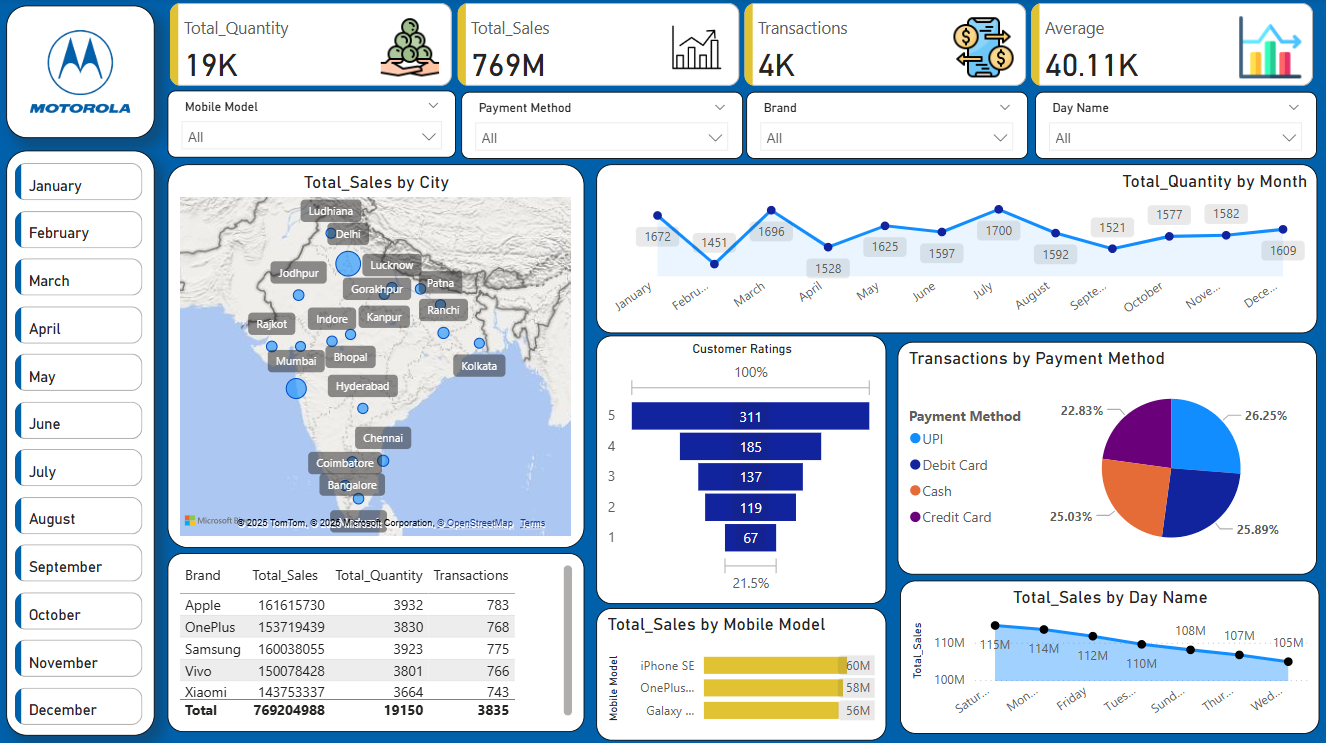

The dashboard page shown, as its layout file describes it:
{"tool":"powerbi","page":{"name":"Page 1","canvas":[1280,720],"ordinal":0},"visuals":[{"type":"shape","box":[6,7.2,143.6,127.9],"z":0},{"type":"image","box":[23.8,15,106.2,112.5],"z":1000},{"type":"shape","box":[6,147.2,143.6,564.6],"z":2000},{"type":"advancedSlicerVisual","fields":{"Values":["Sheet1.Date.Variation.Date Hierarchy.Month"]},"box":[9.4,153.9,133.9,557.4],"z":3000},{"type":"cardVisual","fields":{"Data":["Sales Data.Total_Quantity","Sales Data.Total_Sales","Sales Data.Transactions","Sales Data.Average"]},"box":[159.2,2.7,1117,91.9],"z":4000},{"type":"map","fields":{"Category":["Sales Data.City"],"Size":["Sales Data.Total_Sales"]},"box":[161.9,160.5,402.1,370.5],"z":5000},{"type":"lineChart","fields":{"Category":["Sales Data.Date.Variation.Date Hierarchy.Month","Sales Data.Date.Variation.Date Hierarchy.Day"],"Y":["Sales Data.Total_Quantity"]},"box":[575,160.5,695.7,163.3],"z":6000},{"type":"clusteredBarChart","fields":{"Category":["Sales Data.Mobile Model"],"Y":["Sales Data.Total_Sales"]},"box":[575,588.7,279.9,127.6],"z":7000},{"type":"pieChart","fields":{"Y":["Sales Data.Transactions"],"Category":["Sales Data.Payment Method"]},"box":[865.9,332.1,404.8,225],"z":8000},{"type":"funnel","title":"Customer Ratings","fields":{"Category":["Sales Data.Customer Ratings"],"Y":["CountNonNull(Sales Data.Customer Ratings)"]},"box":[575,325.2,279.9,259.3],"z":9000},{"type":"areaChart","fields":{"Category":["Sales Data.Day Name"],"Y":["Sales Data.Total_Sales"]},"box":[868.6,562.6,404.8,148.2],"z":10000},{"type":"tableEx","fields":{"Values":["Sales Data.Brand","Sales Data.Total_Sales","Sales Data.Total_Quantity","Sales Data.Transactions"]},"box":[161.9,535.2,402.1,172.9],"z":11000},{"type":"slicer","fields":{"Values":["Sales Data.Mobile Model"]},"box":[161.9,89.2,278.6,64.5],"z":12000},{"type":"slicer","fields":{"Values":["Sales Data.Payment Method"]},"box":[444.6,90.6,271.7,64.5],"z":13000},{"type":"slicer","fields":{"Values":["Sales Data.Brand"]},"box":[720.4,90.6,271.7,64.5],"z":14000},{"type":"slicer","fields":{"Values":["Sales Data.Day Name"]},"box":[999,90.6,271.7,64.5],"z":15000}]}

Visuals, with their boxes in screenshot pixels (x1, y1, x2, y2), scaled from the page's 1280x720 canvas onto the 1326x743 screenshot:
shape: rect(6, 7, 155, 139)
image: rect(25, 15, 135, 132)
shape: rect(6, 152, 155, 735)
advancedSlicerVisual - Sheet1.Date.Variation.Date Hierarchy.Month: rect(10, 159, 148, 734)
cardVisual - Sales Data.Total_Quantity x Sales Data.Total_Sales: rect(165, 3, 1322, 98)
map - Sales Data.City x Sales Data.Total_Sales: rect(168, 166, 584, 548)
lineChart - Sales Data.Date.Variation.Date Hierarchy.Month x Sales Data.Date.Variation.Date Hierarchy.Day: rect(596, 166, 1316, 334)
clusteredBarChart - Sales Data.Mobile Model x Sales Data.Total_Sales: rect(596, 608, 886, 739)
pieChart - Sales Data.Transactions x Sales Data.Payment Method: rect(897, 343, 1316, 575)
"Customer Ratings" funnel: rect(596, 336, 886, 603)
areaChart - Sales Data.Day Name x Sales Data.Total_Sales: rect(900, 581, 1319, 734)
tableEx - Sales Data.Brand x Sales Data.Total_Sales: rect(168, 552, 584, 731)
slicer - Sales Data.Mobile Model: rect(168, 92, 456, 159)
slicer - Sales Data.Payment Method: rect(461, 93, 742, 160)
slicer - Sales Data.Brand: rect(746, 93, 1028, 160)
slicer - Sales Data.Day Name: rect(1035, 93, 1316, 160)
